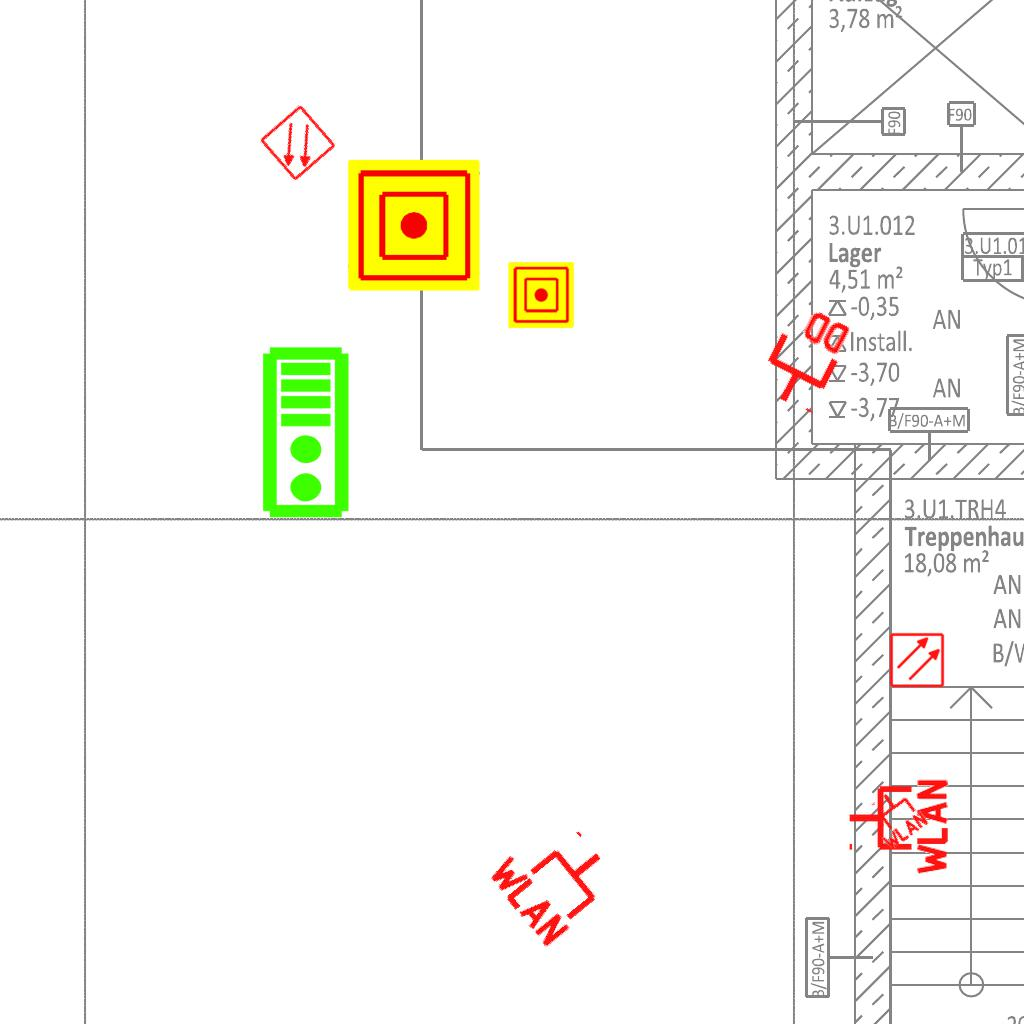Datenanschluss_zweifach: (749, 294, 858, 419)
Gegensprechanlage_mit_Video: (260, 345, 355, 521)
NAM-Nichtautomatischer_Melder: (348, 159, 480, 291), (508, 262, 574, 328)
RMO_Rauchmelder_optischer: (258, 103, 338, 183), (889, 632, 945, 688)
WLAN: (481, 805, 630, 953), (845, 775, 950, 879), (858, 780, 932, 854)
